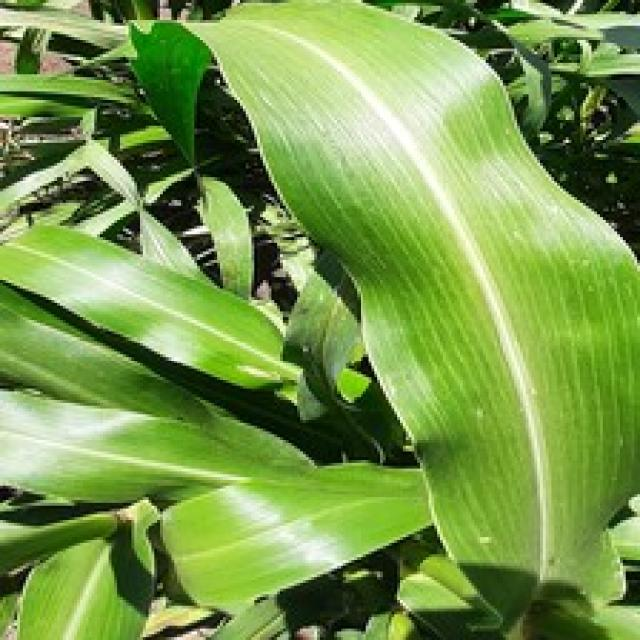Corn: (172, 0, 637, 629), (0, 219, 435, 640)
